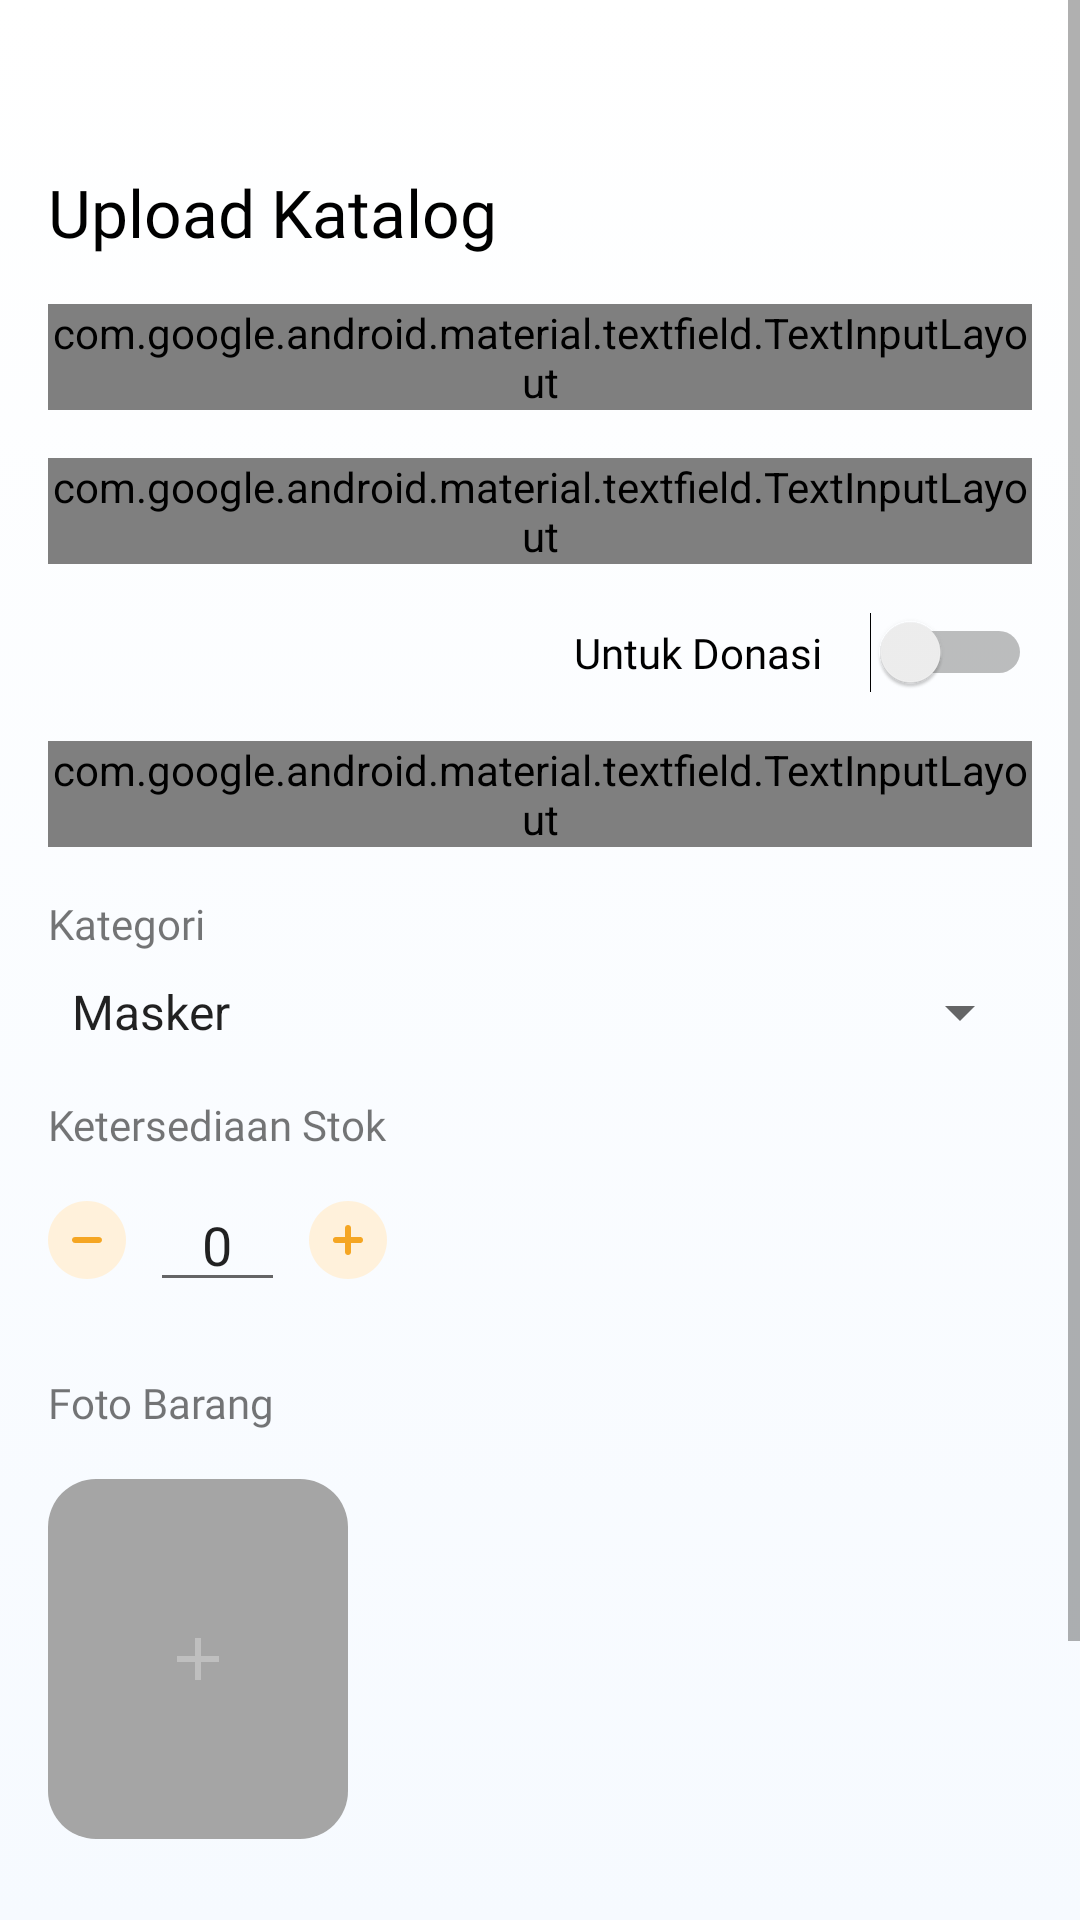

Where to tap for icons on this 1080px x 1920px app screen, as point (x, y):
negative: point (87, 1240)
positive: point (348, 1240)
